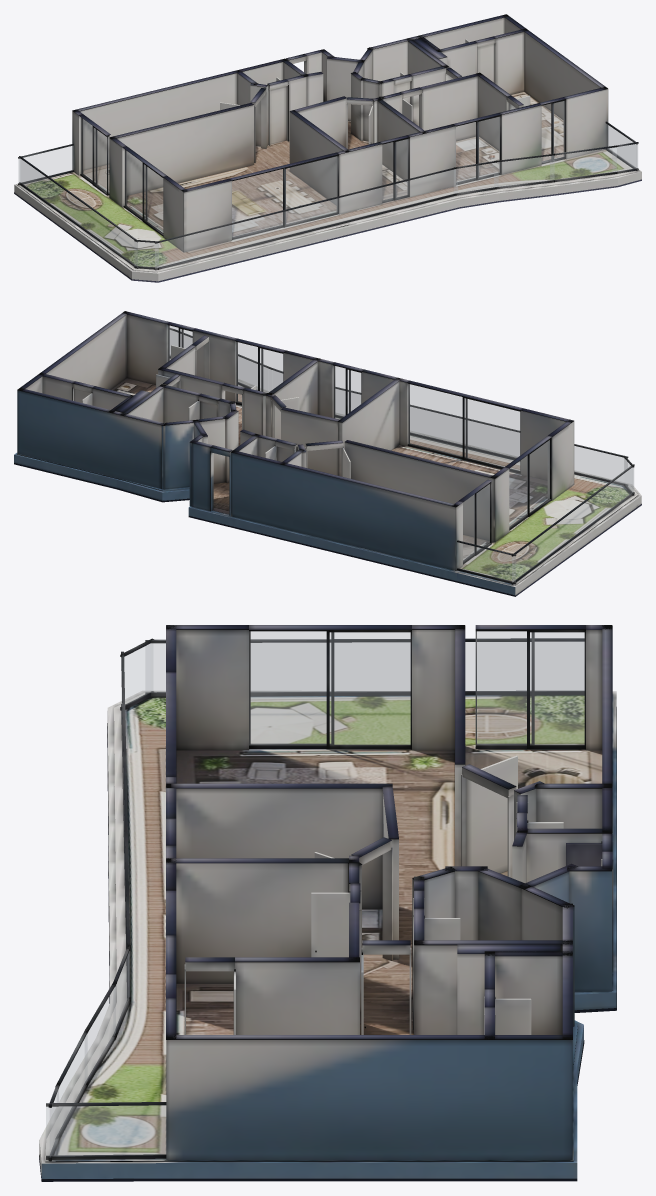
3 views of the same model, one above another, from view 1: azimuth 30°, elevation 25°; view 2: azimuth 150°, elevation 25°; view 3: azimuth 270°, elevation 25° (orthographic). The views are drawn at different scales.
Parts seen in each view (by area): view 1: plan, railg6_m, glass2_m, railg8_m, glass4_m, glass1_m, railg3_m, railg4_m, glass0_m, railg0_m, glass3_m, glass5_m (+4 smaller); view 2: plan, glass2_m, railg6_m, railg8_m, glass1_m, glass4_m, railg0_m, glass0_m, glass3_m, railg4_m, glass5_m; view 3: plan, glass1_m, railg8_m, glass0_m, railg1_m, railg4_m, railg7_m, railg3_m, railg5_m.
Part boxes in pixels (left/top/right/bottom): plan: left=14, top=14, right=641, bottom=282; railg6_m: left=155, top=169, right=457, bottom=268; glass2_m: left=232, top=156, right=337, bottom=237; railg8_m: left=20, top=159, right=137, bottom=266; glass4_m: left=456, top=117, right=499, bottom=182; glass1_m: left=124, top=150, right=162, bottom=232; railg3_m: left=550, top=147, right=616, bottom=180; railg4_m: left=494, top=156, right=554, bottom=186; glass0_m: left=81, top=118, right=108, bottom=193; railg0_m: left=18, top=146, right=73, bottom=182; glass3_m: left=382, top=139, right=407, bottom=200; glass5_m: left=542, top=101, right=564, bottom=161; plan: left=14, top=311, right=641, bottom=596; glass2_m: left=408, top=384, right=519, bottom=470; railg6_m: left=336, top=389, right=627, bottom=483; railg8_m: left=512, top=468, right=633, bottom=582; glass1_m: left=509, top=440, right=549, bottom=527; glass4_m: left=236, top=342, right=282, bottom=402; railg0_m: left=457, top=542, right=515, bottom=582; glass0_m: left=463, top=484, right=489, bottom=561; glass3_m: left=334, top=366, right=360, bottom=418; railg4_m: left=238, top=356, right=267, bottom=392; glass5_m: left=168, top=325, right=192, bottom=360; plan: left=39, top=625, right=616, bottom=1181; glass1_m: left=249, top=631, right=410, bottom=745; railg8_m: left=146, top=642, right=583, bottom=692; glass0_m: left=476, top=631, right=584, bottom=745; railg1_m: left=46, top=1105, right=165, bottom=1155; railg4_m: left=85, top=986, right=115, bottom=1083; railg7_m: left=121, top=644, right=152, bottom=706; railg3_m: left=57, top=1034, right=87, bottom=1132; railg5_m: left=113, top=951, right=129, bottom=1036.
Size of the model in its own units: 19.01 by 2.62 by 9.81.
2 materials, 1 textured.
